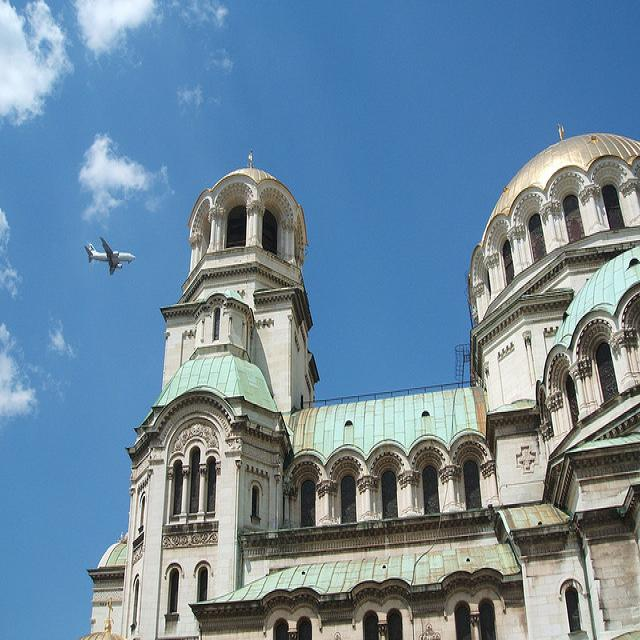airplane: (82, 231, 138, 278)
